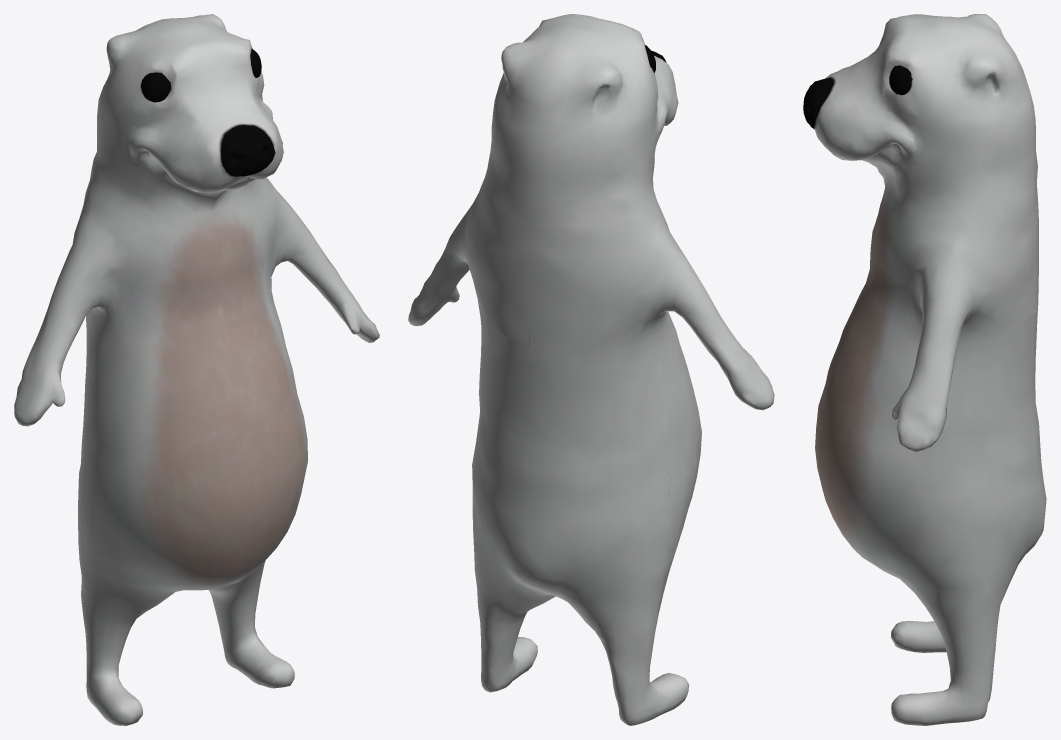
Rendered from WhiteDog.glb.
3 views of the same model, side by side, from view 1: azimuth 30°, elevation 25°; view 2: azimuth 150°, elevation 25°; view 3: azimuth 270°, elevation 25° (orthographic).
Parts seen in each view (by area): view 1: geometry_0; view 2: geometry_0; view 3: geometry_0.
Part boxes in pixels (x1,y1,x2,y2): geometry_0: [14, 14, 379, 725]; geometry_0: [408, 14, 774, 725]; geometry_0: [803, 14, 1046, 725].
Bounding box in the file's own units: 0.5352 × 0.9507 × 0.3164.
1 material, 1 textured.
